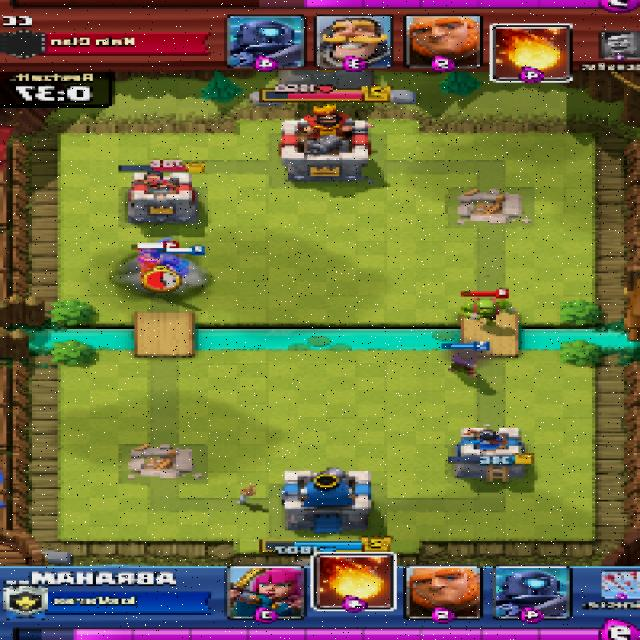Enemy-Musketeer: (137, 247, 168, 276)
Player-GoblinCage: (456, 298, 518, 324)
Player-Knight: (160, 250, 202, 288)
Player-Musketeer: (445, 344, 492, 376)
